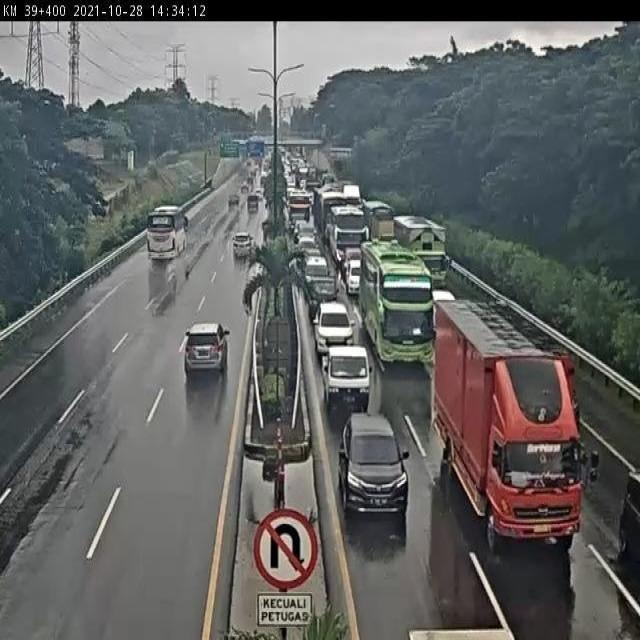Bus: (356, 236, 436, 367), (146, 204, 190, 261), (327, 204, 370, 262)
Car: (338, 414, 411, 513), (182, 324, 230, 378), (312, 302, 355, 351), (619, 469, 640, 556), (429, 288, 457, 332), (304, 275, 344, 302), (303, 255, 330, 282), (344, 258, 364, 292), (233, 232, 253, 258), (293, 237, 319, 252), (294, 219, 308, 240), (228, 193, 240, 207)
Truck: (432, 294, 602, 557), (390, 213, 452, 290), (316, 343, 372, 412), (313, 188, 346, 236), (361, 198, 397, 238)
